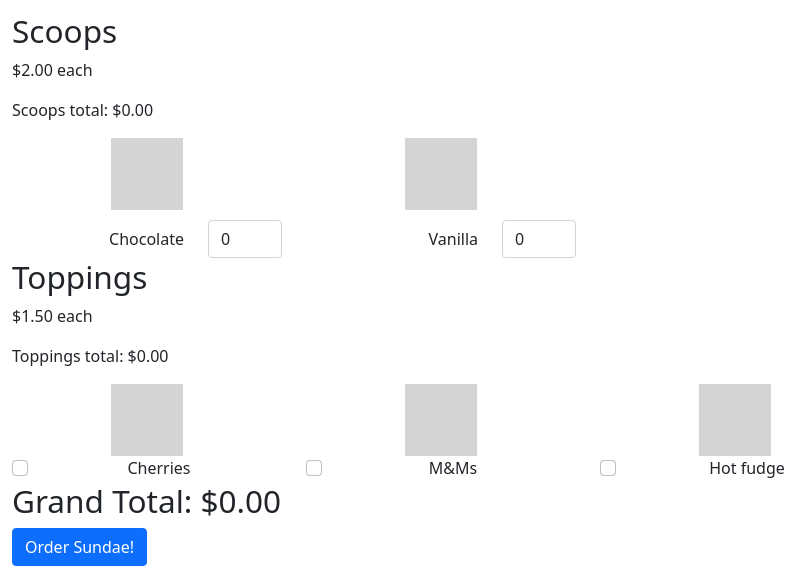
Test: Grand Total › Grand total increases when adding topping
This screenshot has width=801, height=583.
Click the checkbox labelled "Cherries" at (20, 468), box [12, 460, 28, 476]
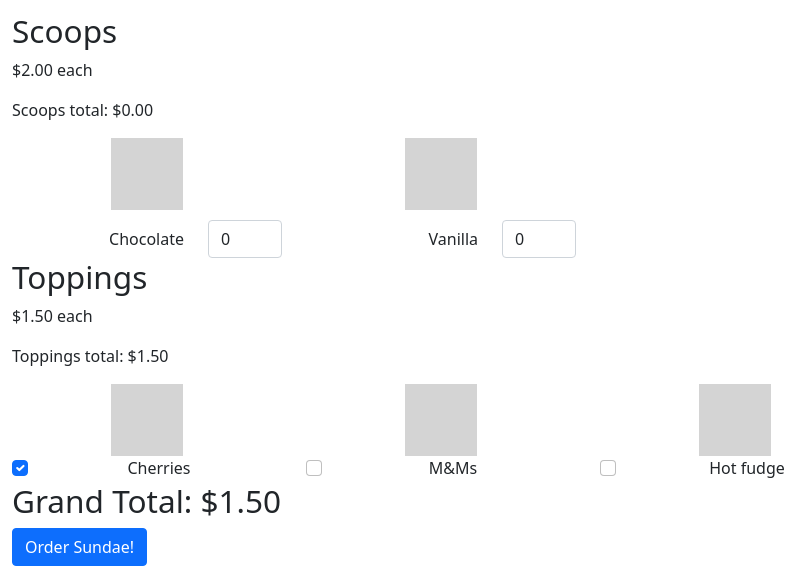
Result: the heading "Grand Total: $1.50" is shown at [12, 479, 281, 522]
